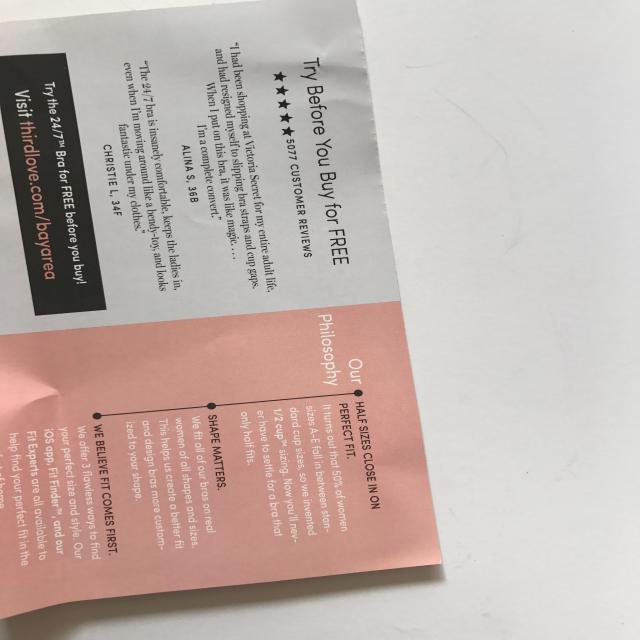paper: (2, 1, 448, 633)
